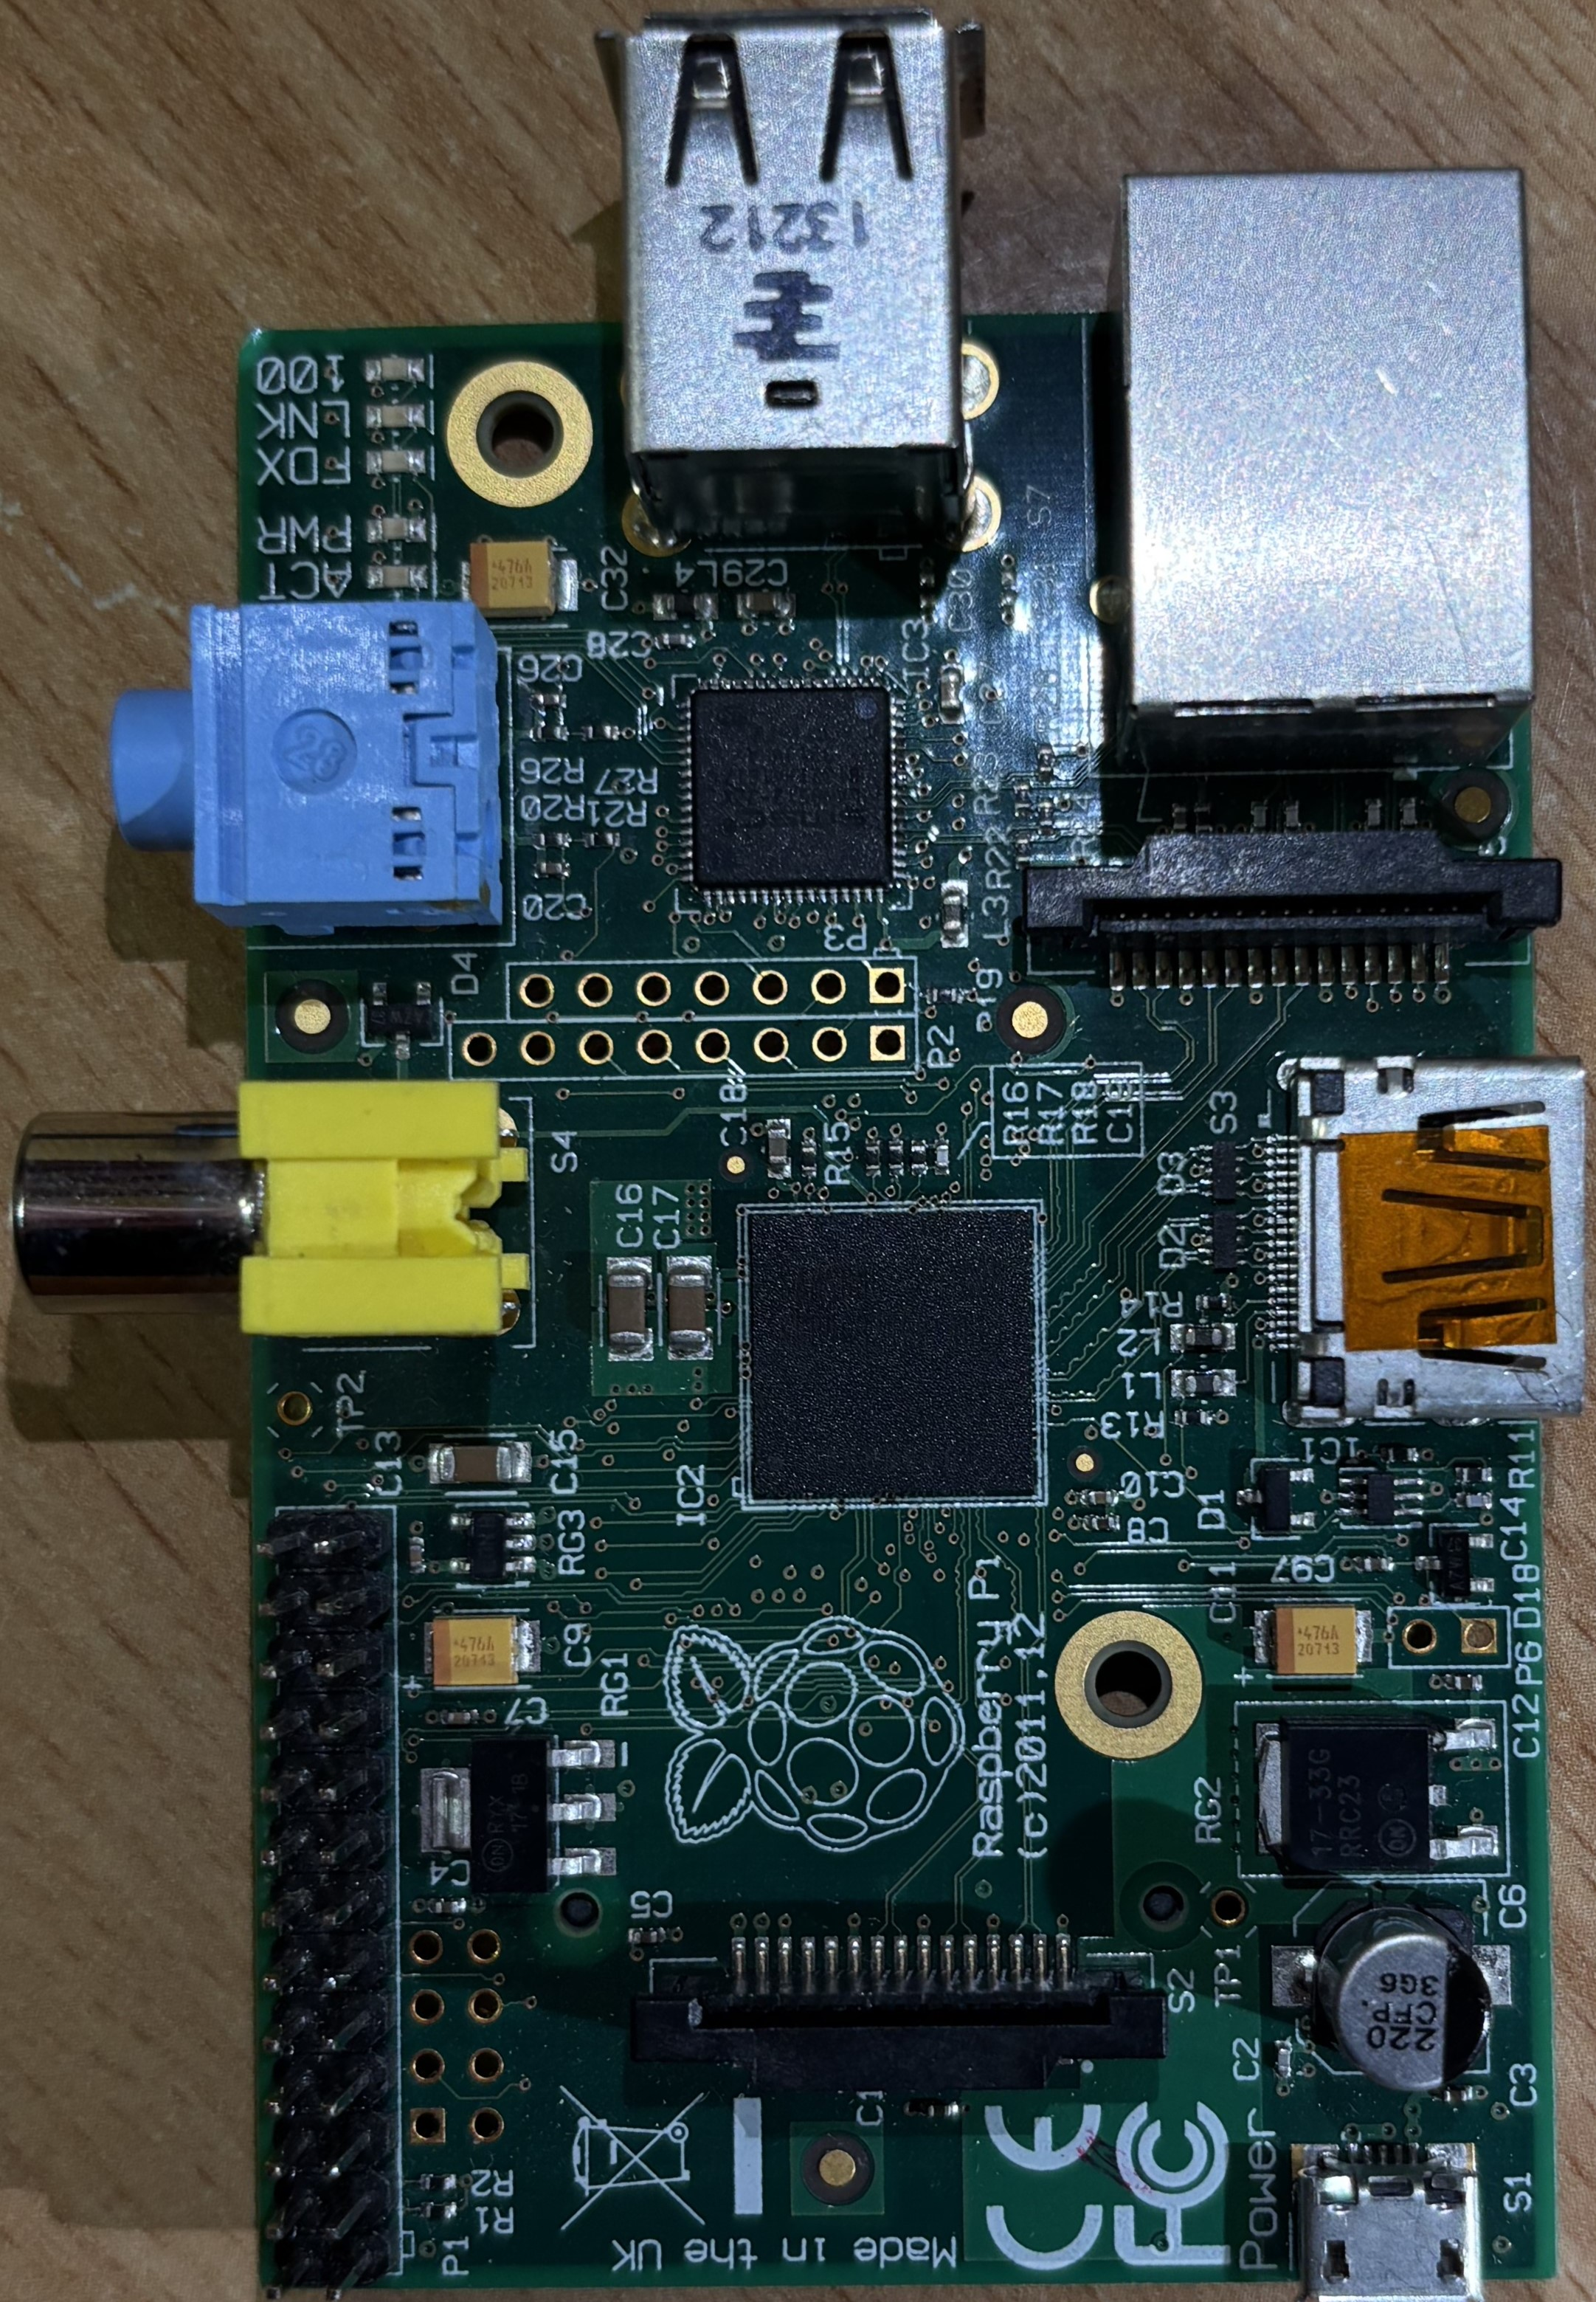Induktor: (942, 890, 963, 936), (1185, 1326, 1222, 1347), (1183, 1375, 1225, 1392)
